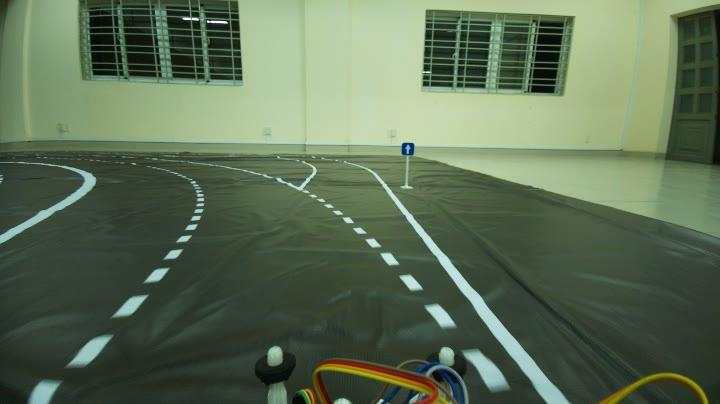onewayroad: (398, 139, 419, 159)
